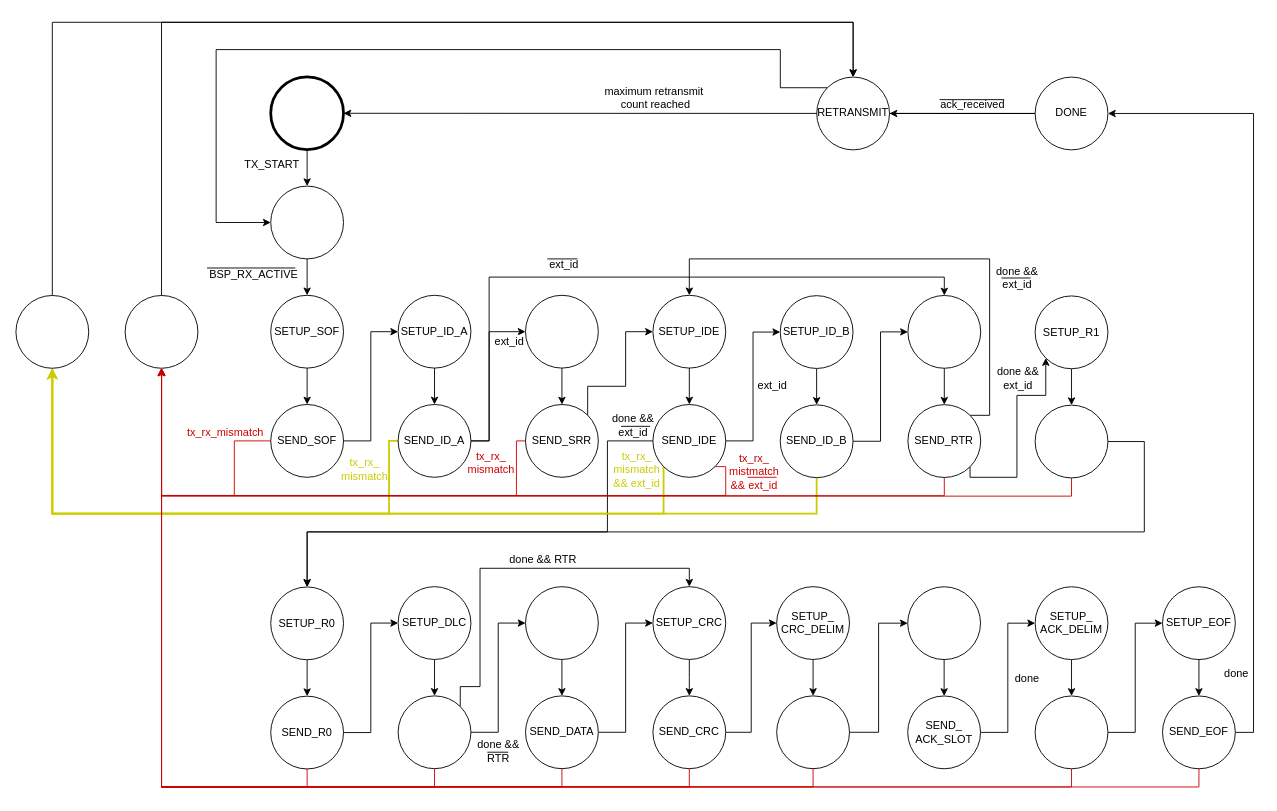
This 1277x811 diagram has some shape labels left out. Each missing label, with the centre of its shape:
"ARB_LOST" belongs at point (52, 331).
"FORM_ ERROR" belongs at point (161, 331).
"IDLE" belongs at point (306, 113).
"SEND_ ACK_DELIM" belongs at point (1071, 732).
"SEND_ CRC_DELIM" belongs at point (812, 732).
"SEND_DLC" belongs at point (434, 732).
"SEND_R1" belongs at point (1071, 441).
"SETUP_ ACK_SLOT" belongs at point (944, 623).
"SETUP_DATA" belongs at point (561, 622).
"SETUP_RTR" belongs at point (944, 331).
"SETUP_SRR" belongs at point (561, 331).
"WAIT_FOR_ BUS_IDLE" belongs at point (307, 222).
